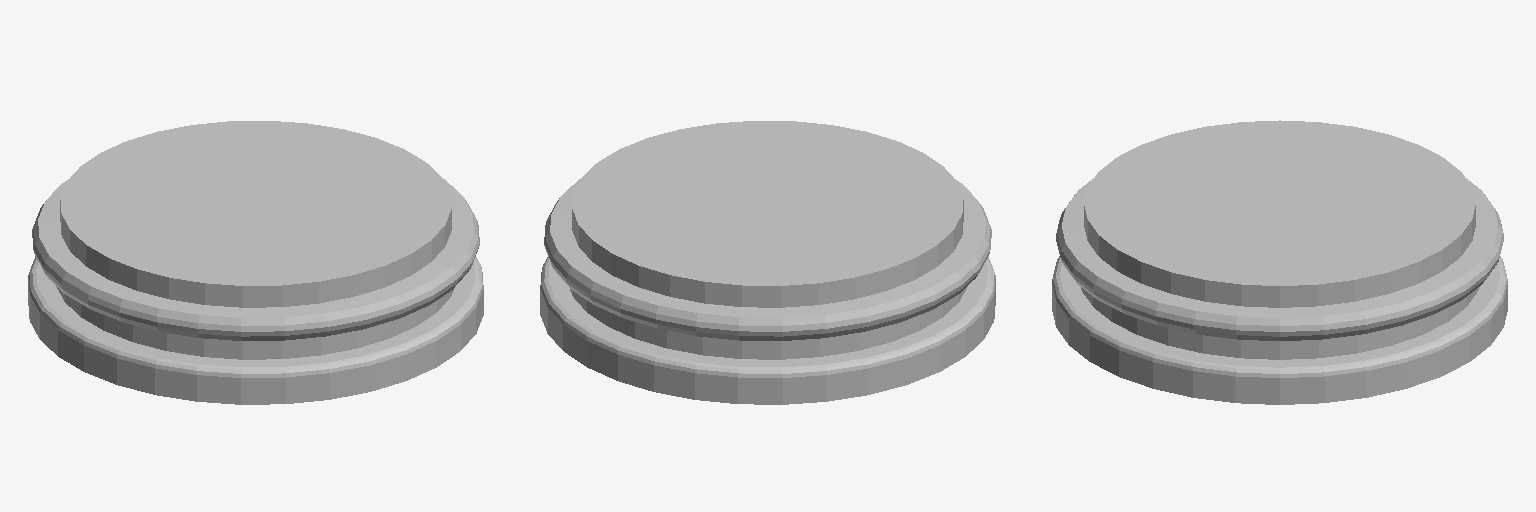
File: PillarBottom.obj
3 views of the same model, side by side, from view 1: azimuth 30°, elevation 25°; view 2: azimuth 150°, elevation 25°; view 3: azimuth 270°, elevation 25° (orthographic).
Parts seen in each view (by area): view 1: PillarBase; view 2: PillarBase; view 3: PillarBase.
Part boxes in pixels (left/top/right/bottom): PillarBase: left=28, top=121, right=483, bottom=404; PillarBase: left=540, top=121, right=995, bottom=404; PillarBase: left=1052, top=120, right=1507, bottom=404.
Bounding box in the file's own units: 1.16 × 0.2951 × 1.16.